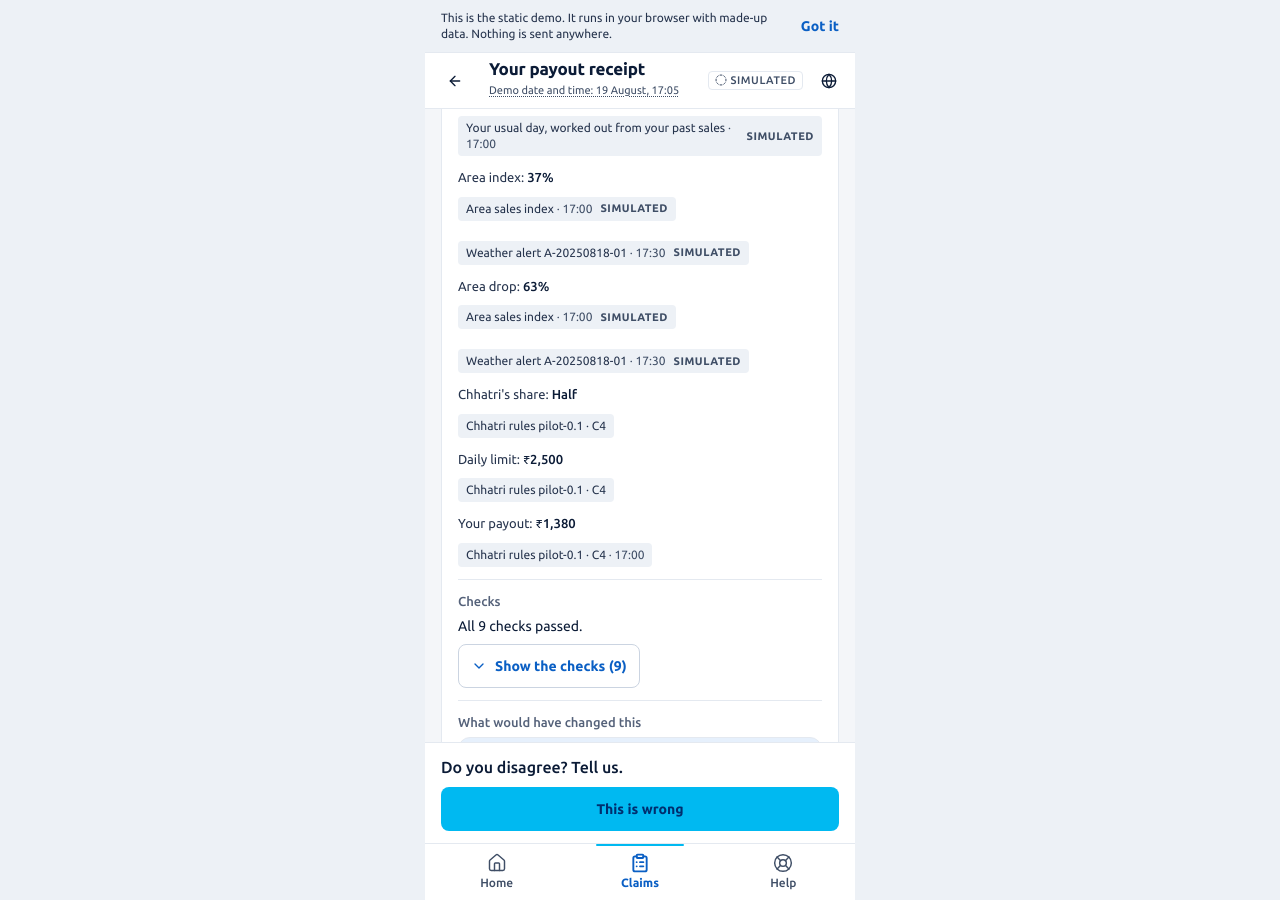
Anil's receipt (AC-27) › opens the sheet of a source badge with the record, its time, its type and the clause
(page scrolled)
Click the button with test id "source-badge" at (536, 426), box x1=458 y1=414 x2=614 y2=438
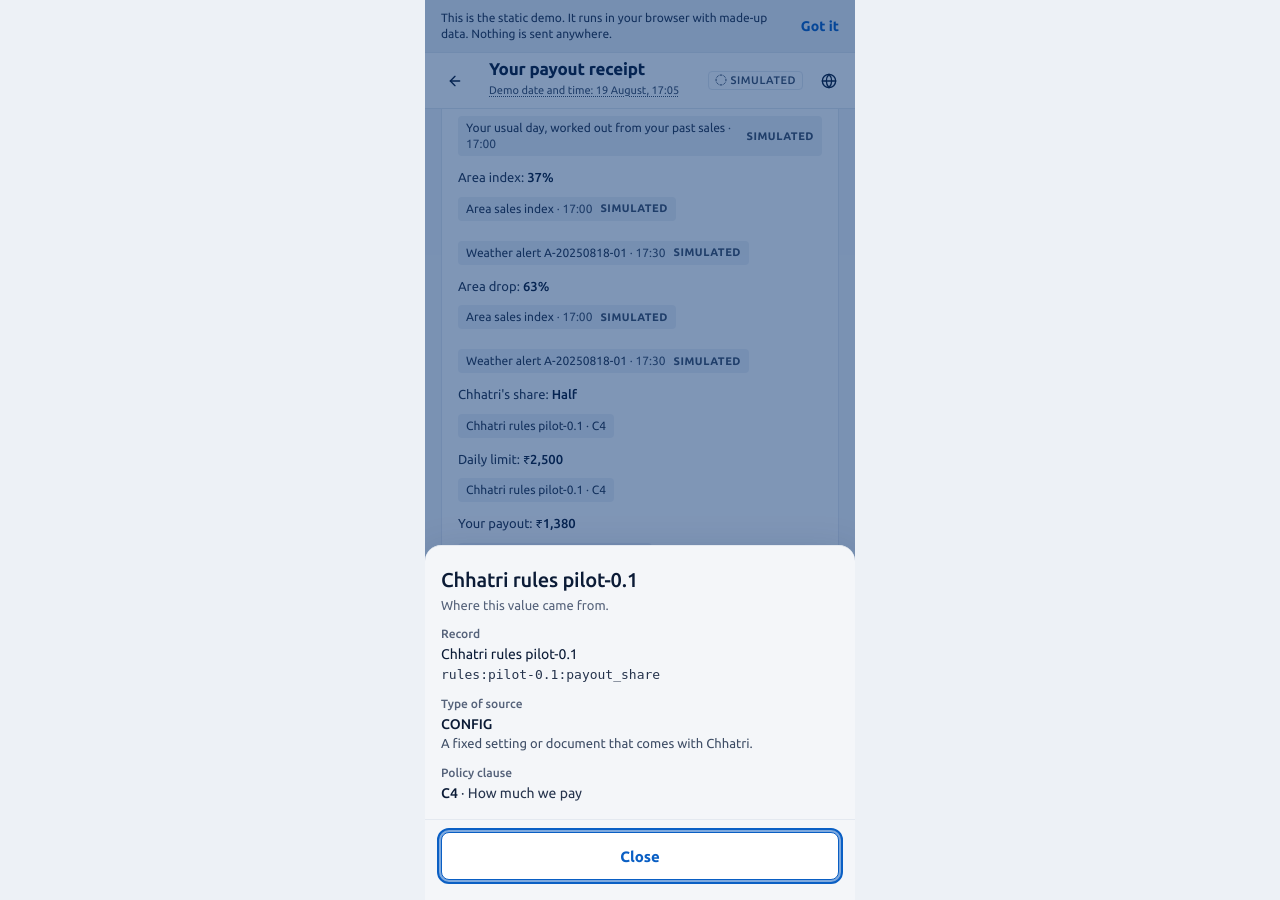
Now the dialog with test id "source-sheet" shows "rules:pilot-0.1:payout_share", box x1=441 y1=667 x2=660 y2=682
Now the dialog with test id "source-sheet" shows "C4", box x1=441 y1=785 x2=458 y2=801
Now the text with test id "source-sheet-origin" reads "CONFIG", box x1=441 y1=716 x2=492 y2=732
